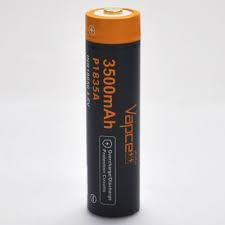battery: (55, 0, 170, 224)
